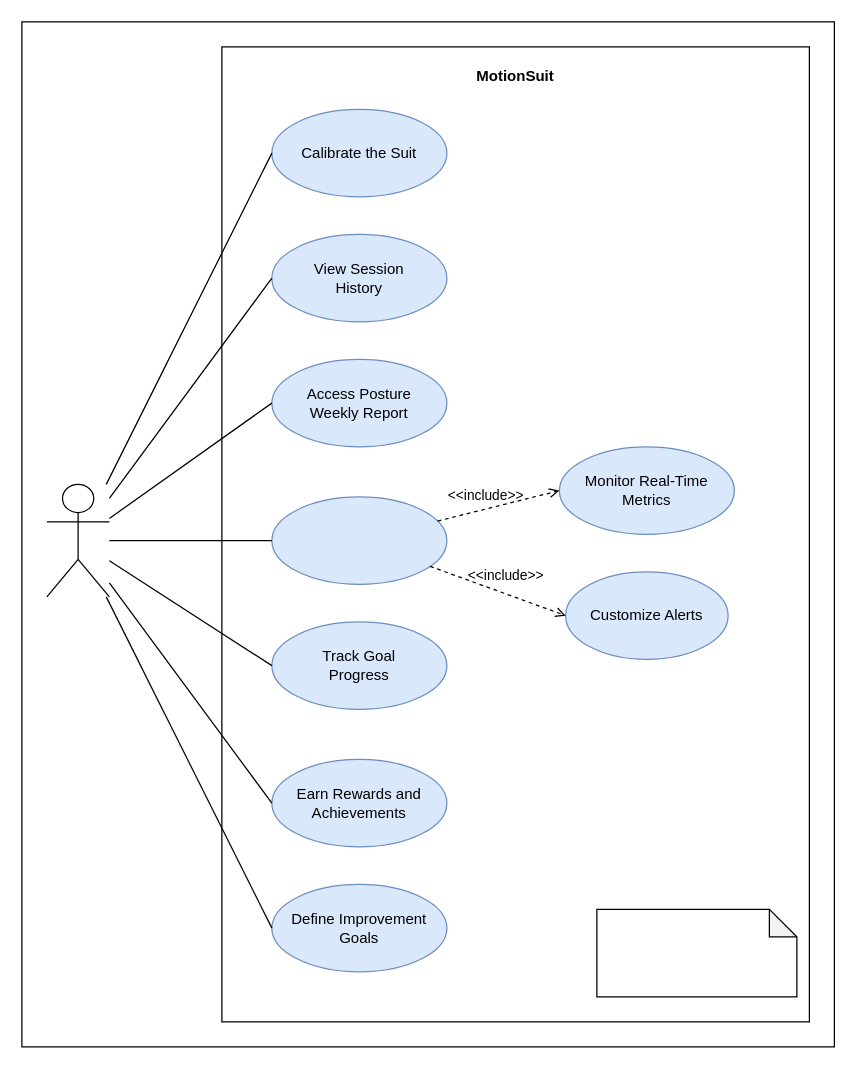
Image size: 856x1069. Some labels were removed from this diagram. The box of each missing label's shape, as (x1, y1, x2, y2) in pixels:
All Suit User use cases require authentication: (596, 908, 797, 997)
Receive Posture Alerts: (271, 496, 447, 584)
Suit User: (46, 483, 109, 597)
